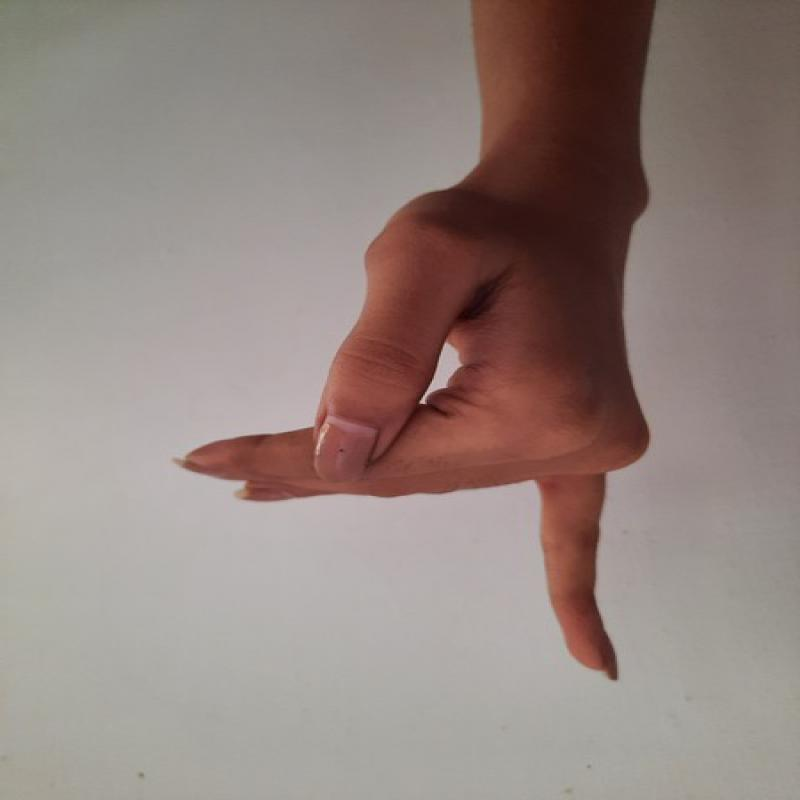Kartharee Mukham: (162, 143, 667, 695)
